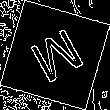M_SE: (22, 21, 88, 89)
